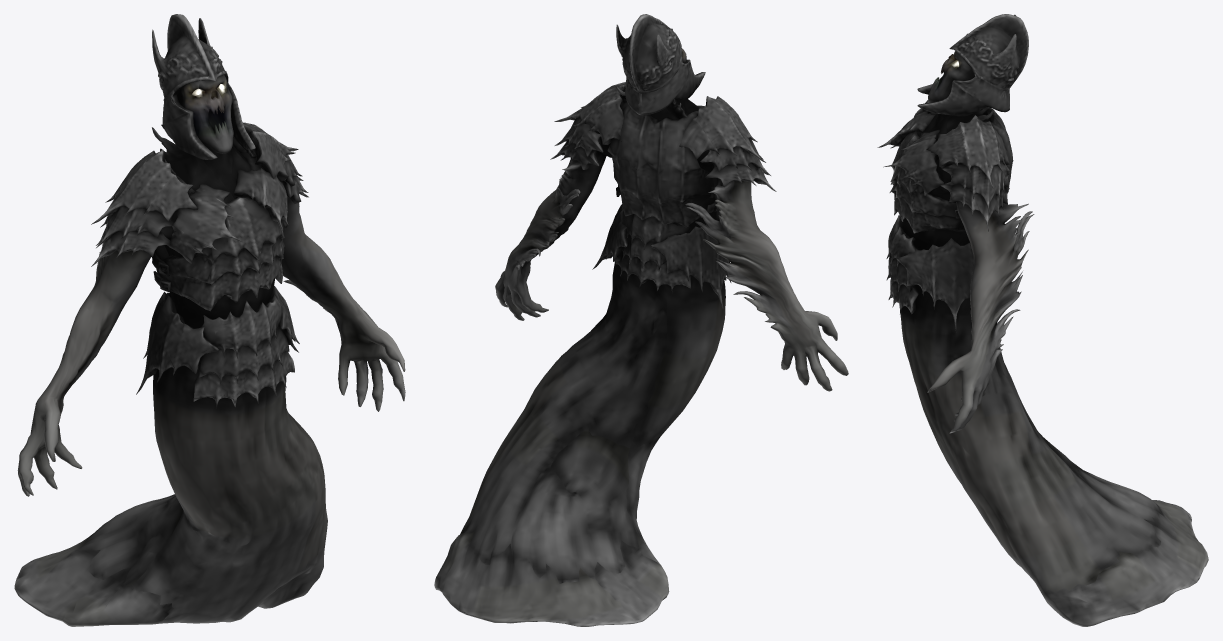
Rendered from MZ4250 - Wraith_1 2025.glb.
3 renders of one model, left to right at view 1: azimuth 30°, elevation 25°; view 2: azimuth 150°, elevation 25°; view 3: azimuth 270°, elevation 25°, orthographic. The views are drawn at different scales.
Visible parts, largest first — view 1: Body.002; view 2: Body.002; view 3: Body.002.
Part boxes in pixels (x1,y1,x2,y2): Body.002: [14, 14, 405, 626]; Body.002: [434, 14, 848, 626]; Body.002: [877, 14, 1208, 626].
Bounding box in the file's own units: 63.17 × 100 × 55.14.
Materials: 2 (2 with a texture image).
